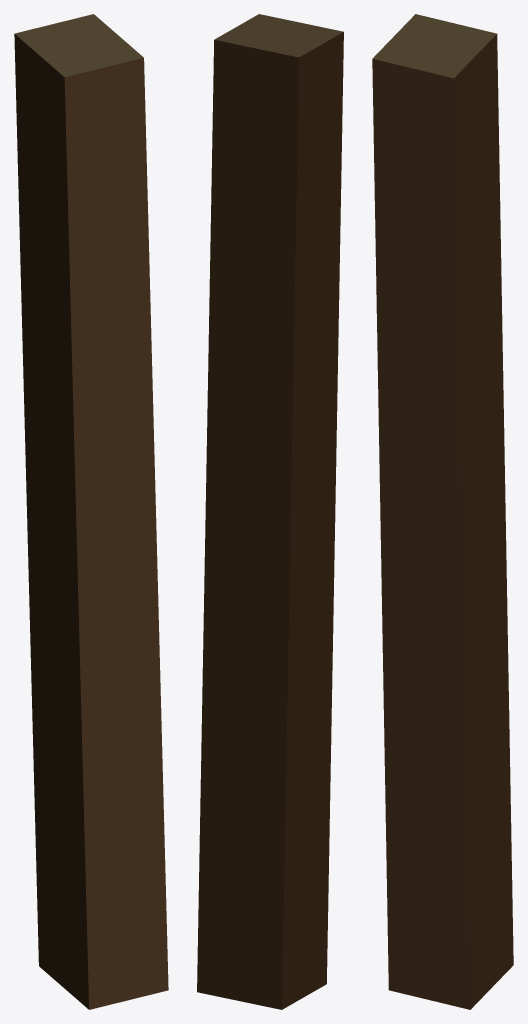
File: SW_Torch.fbx
The picture shows the model from 3 angles, left to right: view 1: azimuth 30°, elevation 25°; view 2: azimuth 150°, elevation 25°; view 3: azimuth 330°, elevation 25°; orthographic projection. The views are drawn at different scales.
Visible parts, largest first — view 1: SW_Sign1; view 2: SW_Sign1; view 3: SW_Sign1.
Boxes of the visible parts, left/top/right/bottom form: SW_Sign1: left=14, top=14, right=168, bottom=1009; SW_Sign1: left=197, top=14, right=343, bottom=1009; SW_Sign1: left=372, top=14, right=513, bottom=1009.
Size of the model in its own units: 15.18 by 131 by 13.17.
